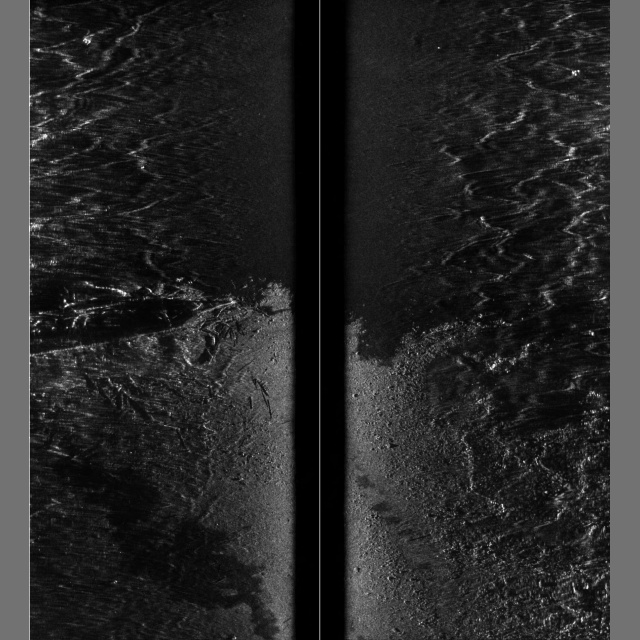Shipwreck: (29, 281, 278, 521)
